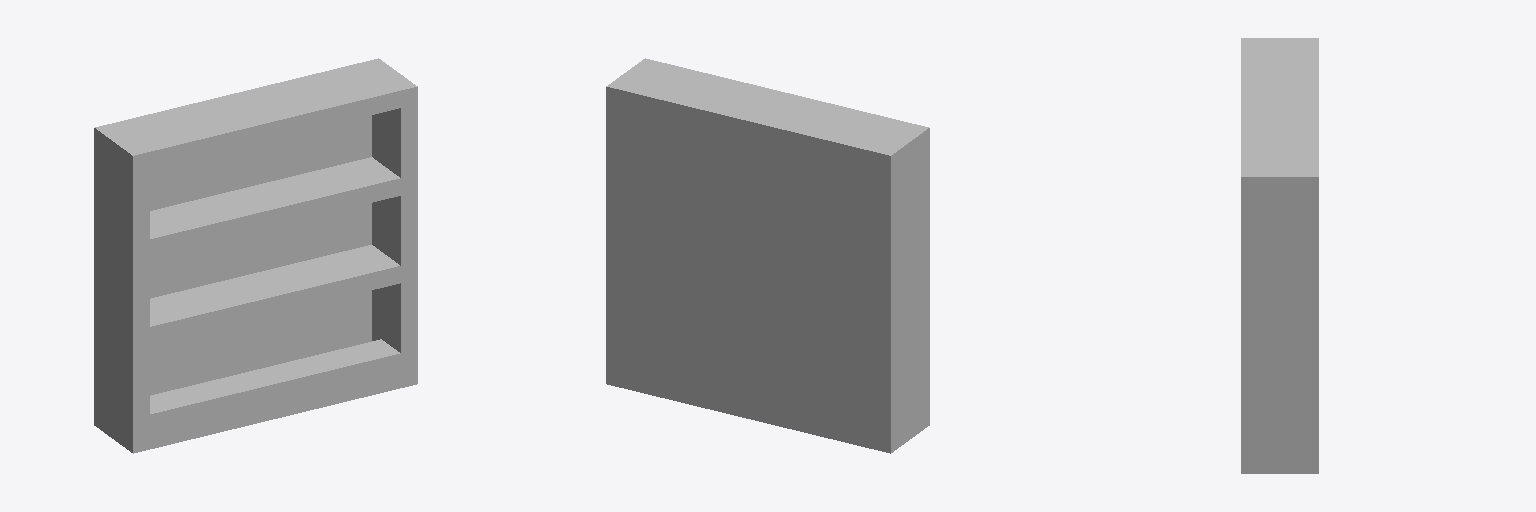
Rendered from bibliotheqe.obj.
The picture shows the model from 3 angles: view 1: azimuth 30°, elevation 25°; view 2: azimuth 150°, elevation 25°; view 3: azimuth 270°, elevation 25°; orthographic projection.
Visible parts, largest first — view 1: object 1; view 2: object 1; view 3: object 1.
Part boxes in pixels (x1,y1,x2,y2): object 1: (94,58,417,453); object 1: (606,58,929,453); object 1: (1241,38,1318,473).
Size of the model in its own units: 1.7 by 1.7 by 0.4.